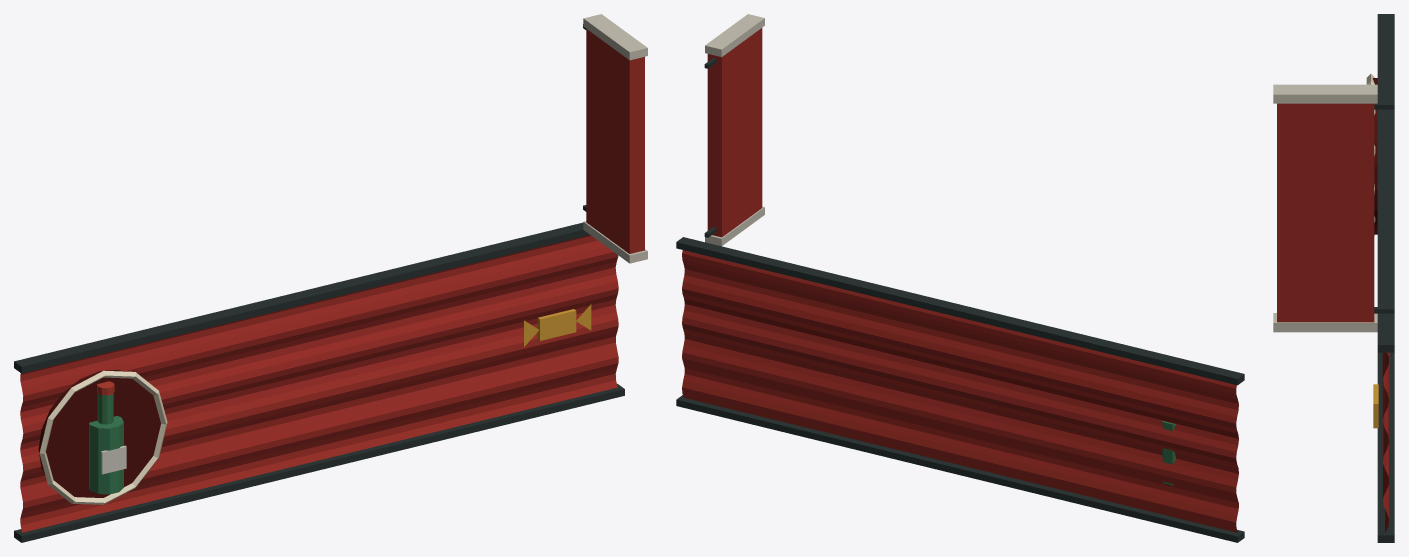
The model's file is bang_tap_hoa_co_ut_48.glb.
3 renders of one model, left to right at view 1: azimuth 30°, elevation 25°; view 2: azimuth 150°, elevation 25°; view 3: azimuth 270°, elevation 25°, orthographic. The views are drawn at different scales.
Parts seen in each view (by area): view 1: bang_tap_hoa_co_ut_48; view 2: bang_tap_hoa_co_ut_48; view 3: bang_tap_hoa_co_ut_48.
Boxes of the visible parts, x1,y1,x2,y2 form: bang_tap_hoa_co_ut_48: (14, 14, 647, 542); bang_tap_hoa_co_ut_48: (676, 14, 1244, 542); bang_tap_hoa_co_ut_48: (1273, 14, 1394, 542).
Bounding box in the file's own units: 4.66 × 2.86 × 0.72.
